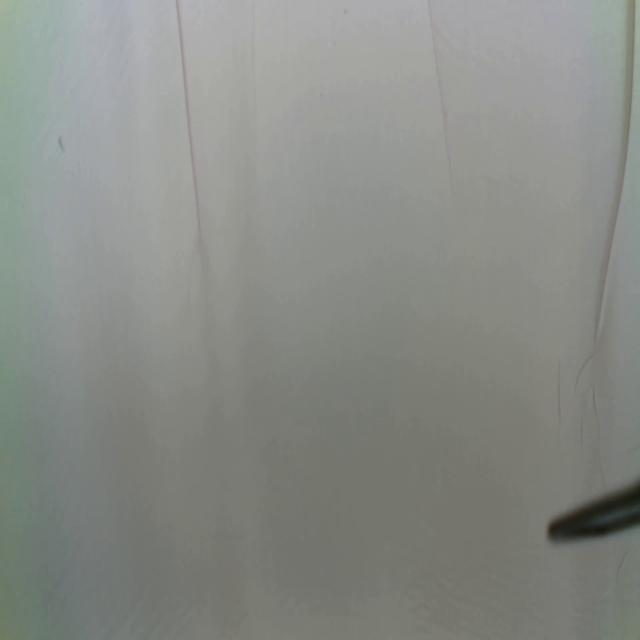crease: (592, 0, 636, 340), (173, 0, 201, 255), (428, 0, 455, 190), (574, 349, 597, 391), (555, 356, 566, 432), (613, 550, 628, 584), (580, 411, 586, 459)
hole: (58, 133, 66, 155), (320, 88, 324, 102), (344, 6, 348, 18)
